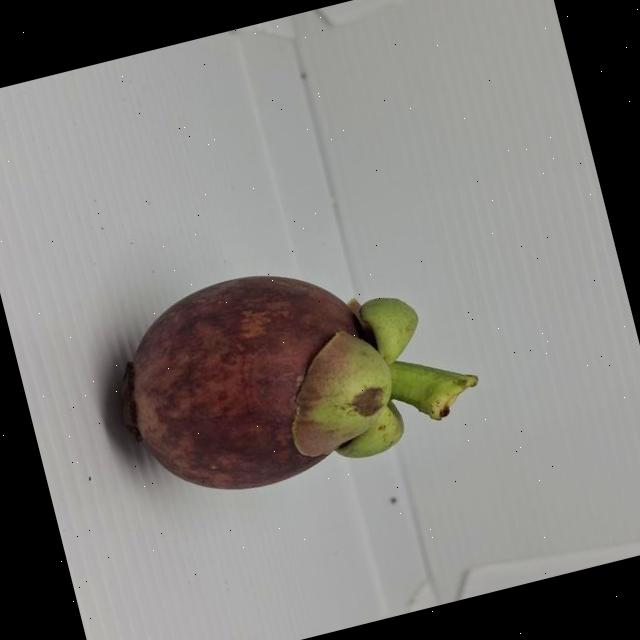mangosteen: (83, 172, 562, 570)
